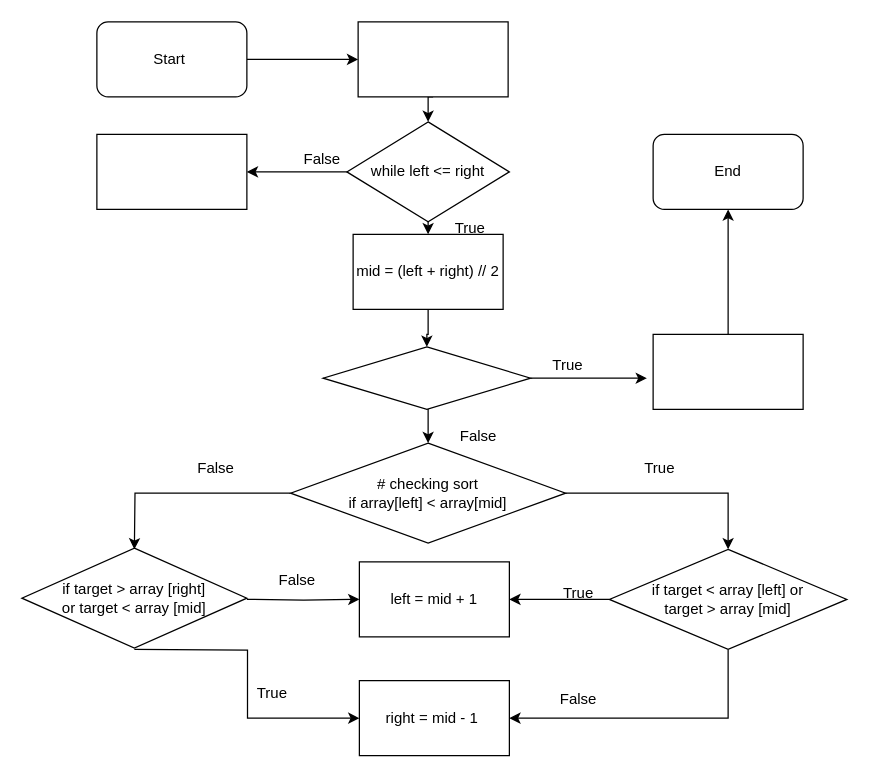
The diagram is 869 pixels wide and 778 high, and some of its shapes have lost their labels. Here are the shapes that lost their labels. From the top down, the centre of each, then its label:
point 432,59: left = 0 right = len(array) -1
point 171,171: return -1
point 426,377: target == mid
point 727,371: Return mid
